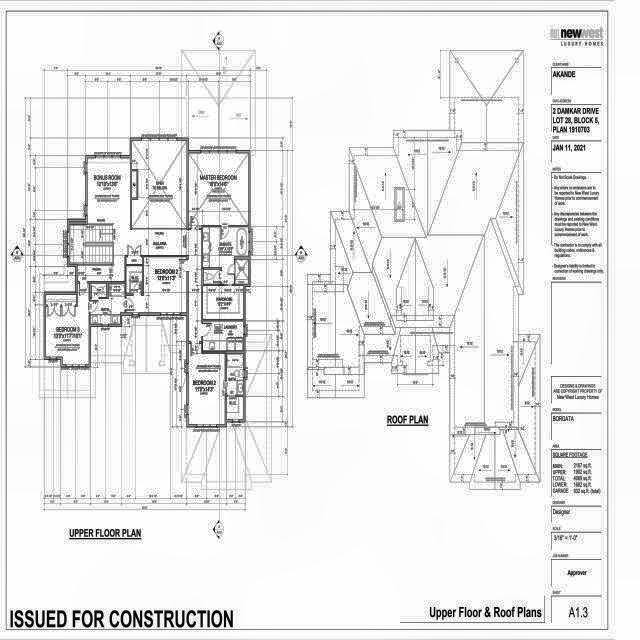room: (189, 153, 248, 228), (46, 283, 89, 364), (126, 257, 187, 313), (189, 343, 225, 424), (203, 227, 248, 284), (90, 283, 125, 324), (203, 286, 243, 319), (203, 321, 243, 351), (227, 353, 243, 419), (126, 266, 142, 294), (203, 269, 221, 284), (90, 283, 107, 297)
